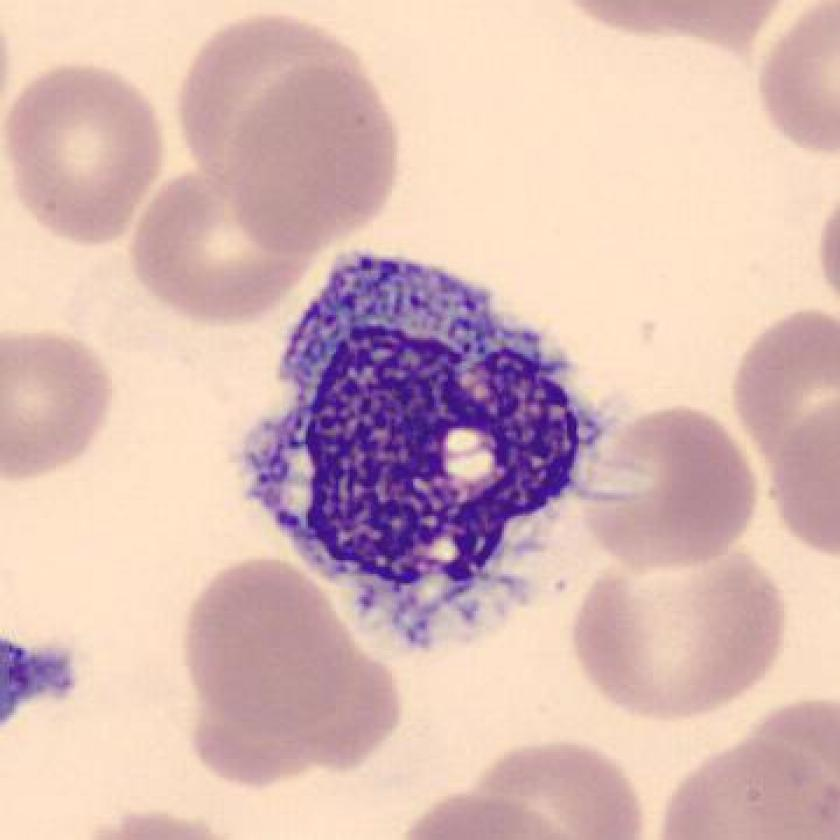monocyte: (223, 232, 650, 663)
